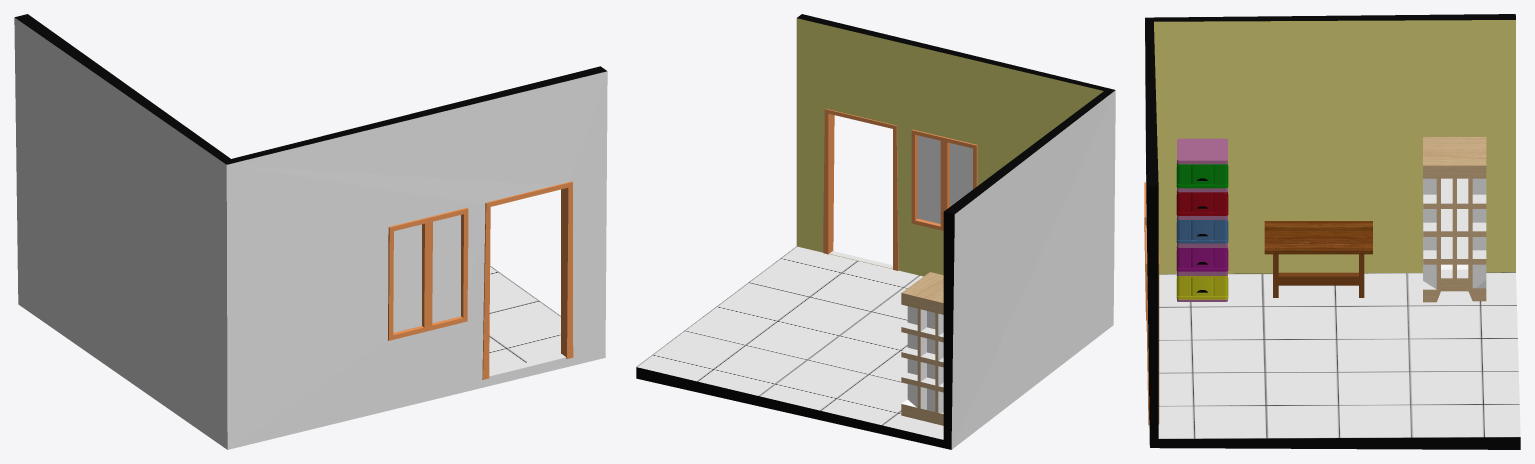
The model's file is myroomSANTO2.glb.
3 views of the same model, side by side, from view 1: azimuth 30°, elevation 25°; view 2: azimuth 150°, elevation 25°; view 3: azimuth 270°, elevation 25° (orthographic). The views are drawn at different scales.
Parts seen in each view (by area): view 1: Cube.011, Cube.016, Cube.017, Cube.013; view 2: Cube.011, Cube.007, Cube.016, Cube.017, Cube.013; view 3: Cube.011, Cube.007, Cube.009, Cube.005, Cube.004, Cube.002, Cube, Cube.001, Cube.003, Cube.017.
Part boxes in pixels (left/top/right/bottom): Cube.011: left=14, top=14, right=607, bottom=449; Cube.016: left=393, top=215, right=460, bottom=332; Cube.017: left=482, top=181, right=573, bottom=379; Cube.013: left=388, top=207, right=468, bottom=340; Cube.011: left=636, top=14, right=1115, bottom=449; Cube.007: left=901, top=272, right=943, bottom=425; Cube.016: left=917, top=135, right=972, bottom=223; Cube.017: left=823, top=108, right=898, bottom=270; Cube.013: left=911, top=129, right=977, bottom=230; Cube.011: left=1145, top=14, right=1520, bottom=449; Cube.007: left=1423, top=137, right=1486, bottom=302; Cube.009: left=1264, top=221, right=1372, bottom=297; Cube.005: left=1177, top=138, right=1227, bottom=301; Cube.004: left=1176, top=163, right=1228, bottom=188; Cube.002: left=1176, top=219, right=1228, bottom=243; Cube: left=1176, top=275, right=1228, bottom=299; Cube.001: left=1176, top=247, right=1228, bottom=271; Cube.003: left=1176, top=191, right=1228, bottom=215; Cube.017: left=1145, top=225, right=1159, bottom=425.
Size of what is drawn, in the model's own units: 21.73 by 15.57 by 20.02.
18 materials, 3 textured.
